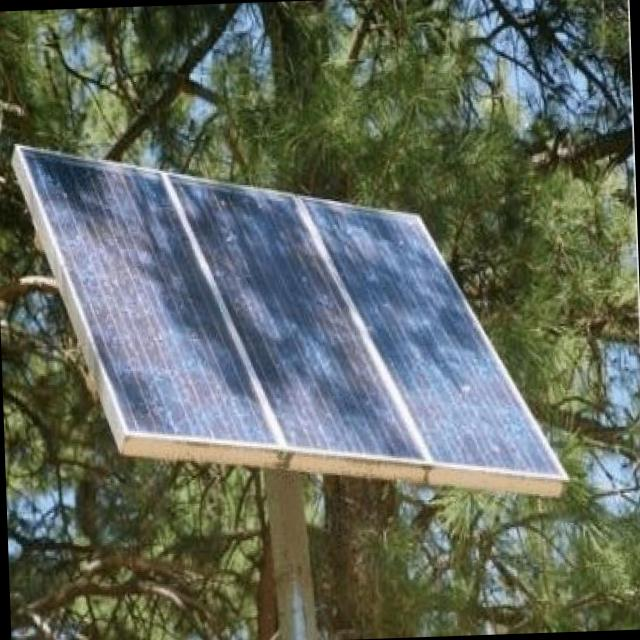faulty: (32, 159, 273, 446), (304, 205, 564, 471), (173, 183, 421, 455)
